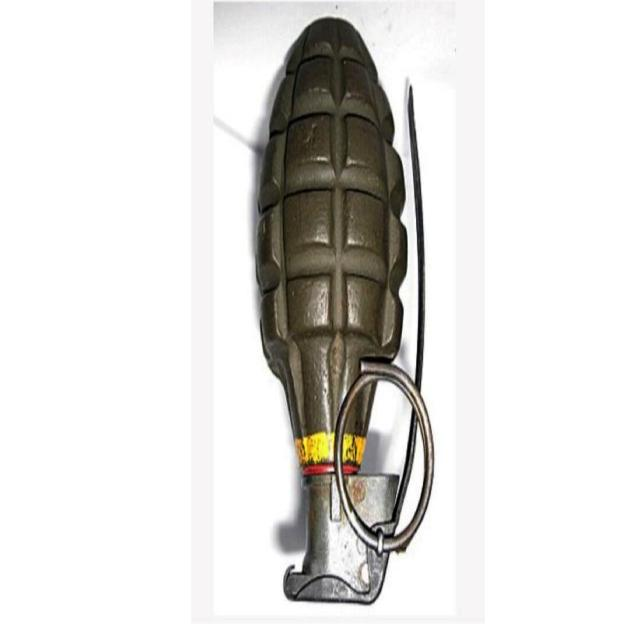grenade: (255, 18, 435, 602)
